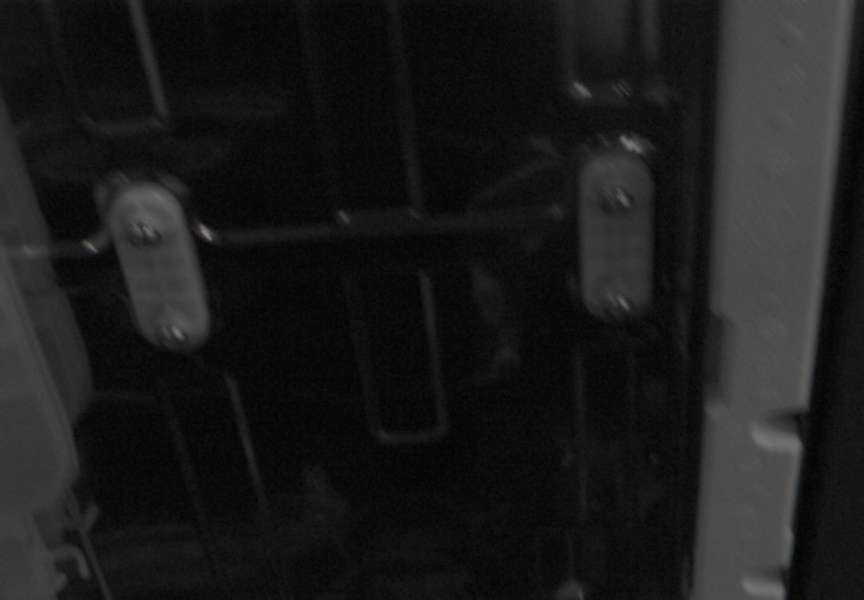screw: (125, 220, 162, 247), (600, 186, 634, 215), (604, 289, 634, 320), (158, 322, 188, 350)
